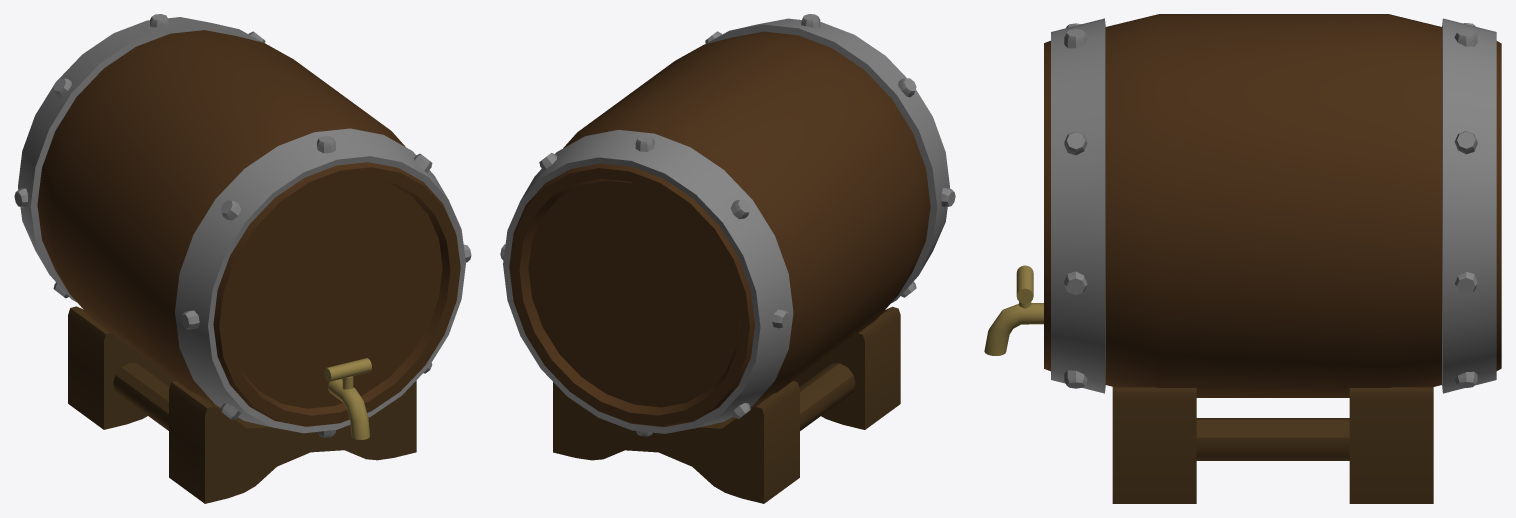
File: tappedKeg.fbx
3 views of the same model, side by side, from view 1: azimuth 30°, elevation 25°; view 2: azimuth 150°, elevation 25°; view 3: azimuth 270°, elevation 25° (orthographic). The views are drawn at different scales.
Parts seen in each view (by area): view 1: Tapped Keg; view 2: Tapped Keg; view 3: Tapped Keg.
Boxes of the visible parts, left/top/right/bottom form: Tapped Keg: left=14, top=14, right=471, bottom=503; Tapped Keg: left=500, top=14, right=955, bottom=503; Tapped Keg: left=984, top=14, right=1501, bottom=503.
Size of the model in its own units: 57.15 by 76.67 by 67.42.
